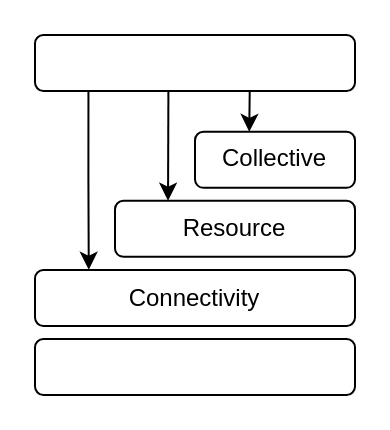
Image size: 390x430. Some labels were removed from this diagram. The centre of each missing label's shape, as x and y in pixels:
Application: (x=194, y=62)
Fabric: (x=194, y=366)
